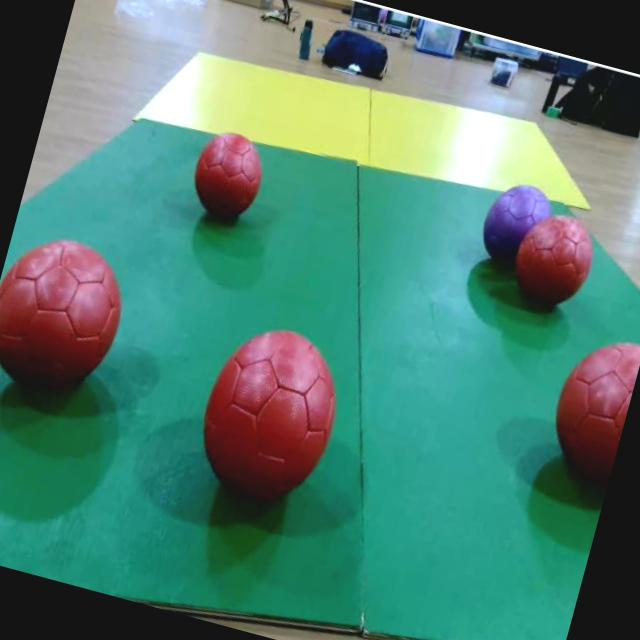purple_ball: (476, 178, 535, 277)
red_ball: (180, 314, 357, 524), (0, 223, 139, 418), (533, 324, 640, 501), (180, 121, 274, 234), (517, 210, 602, 326)
